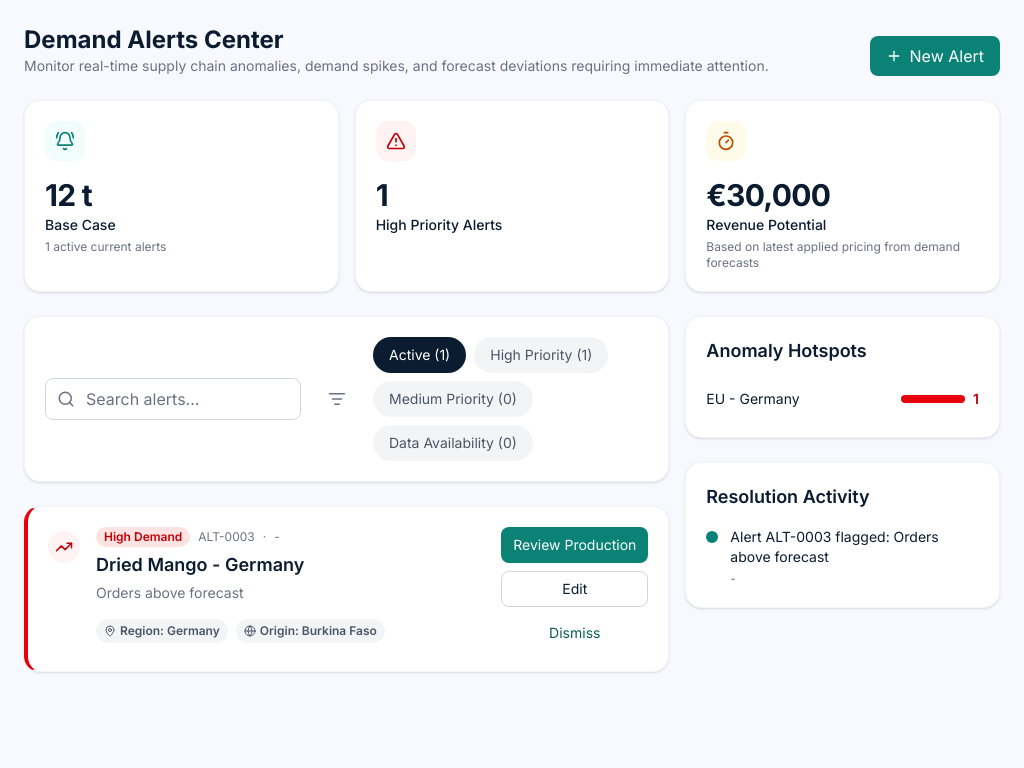
Scenario: DemandAlertsPage › creates an alert from the New Alert dialog
The image size is (1024, 768).
Expected: the heading "Dried Mango - Germany" is shown, 96,554 -> 304,575
Click the button "New Alert" at (935,56), box 870,36 -> 1000,76
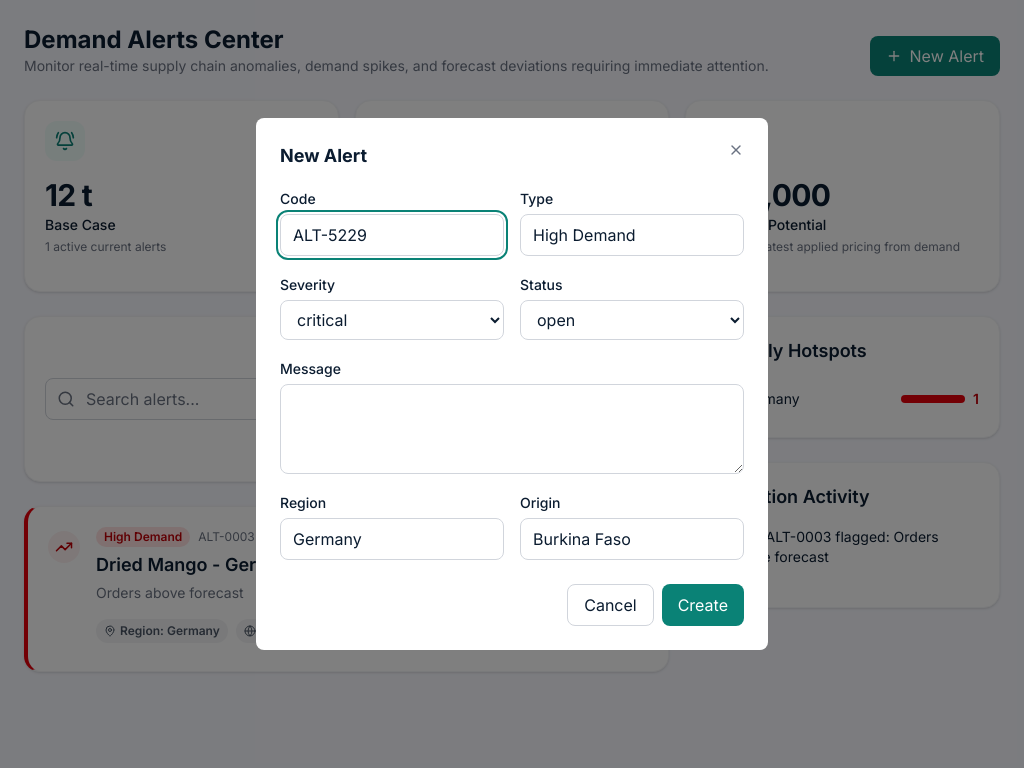
Type "Stock running low" into the text box labelled "Message" at (512,429), box 280,384 -> 744,474
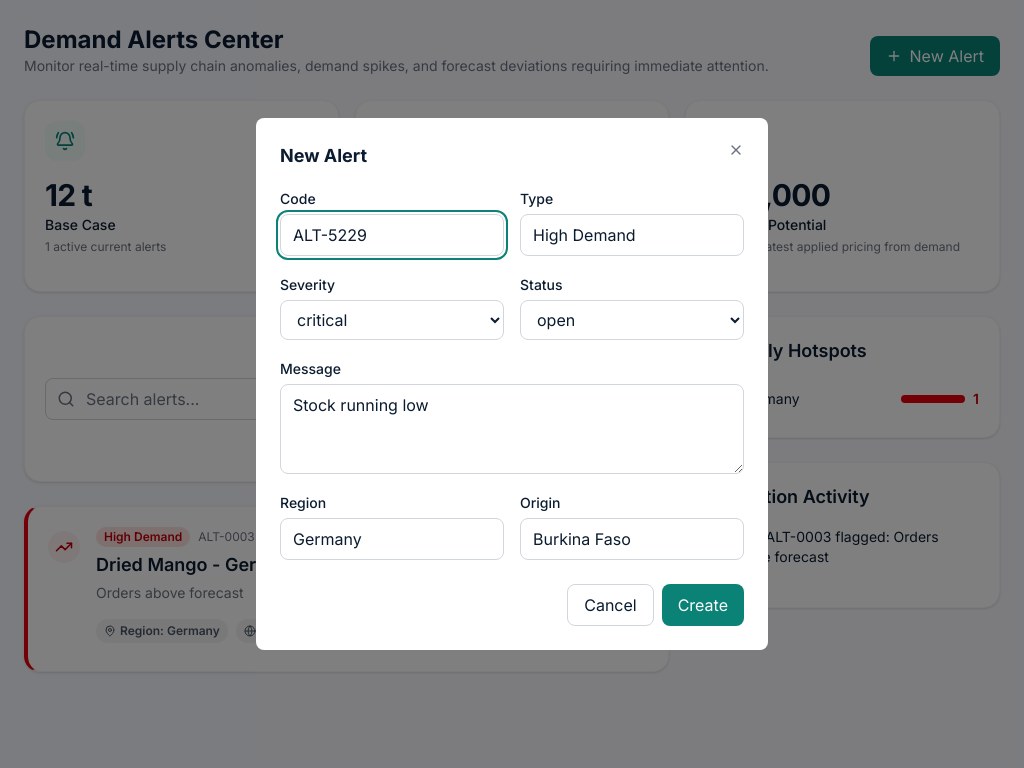
Click the button "Create" at (703,605), box 662,584 -> 744,626
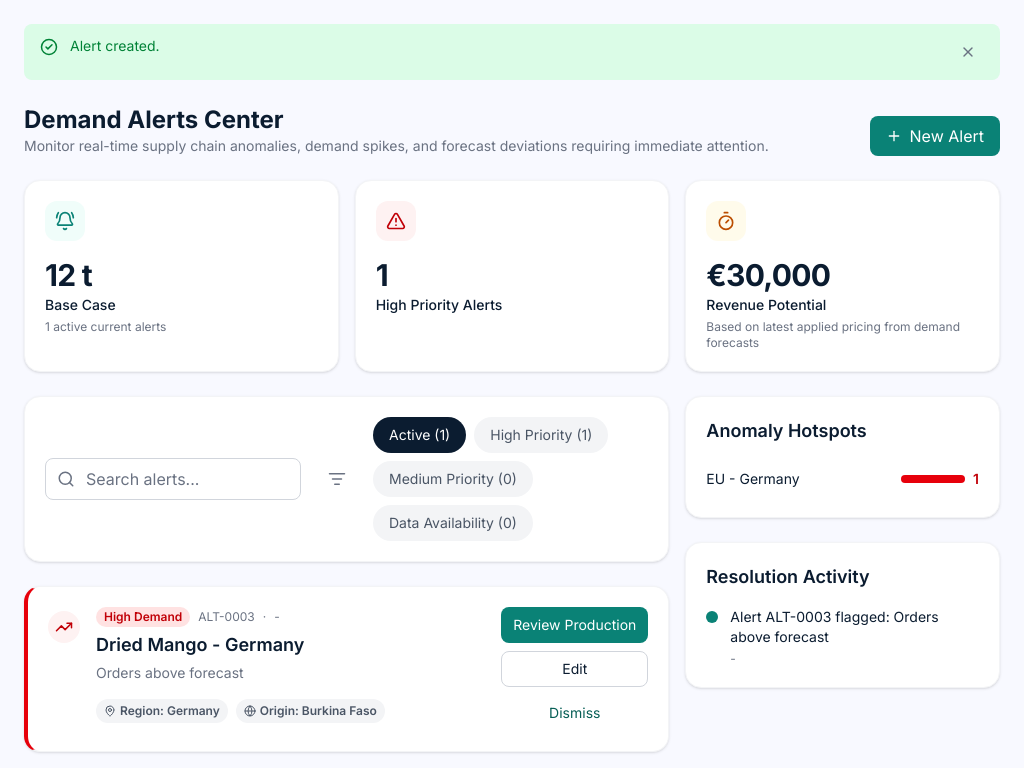
Expected: the text "Alert created." is shown, 70,37 -> 160,54
